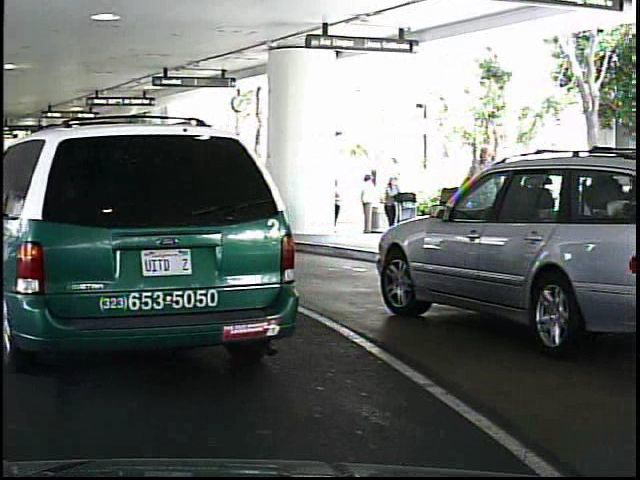person: (458, 139, 503, 272), (377, 170, 407, 240)
